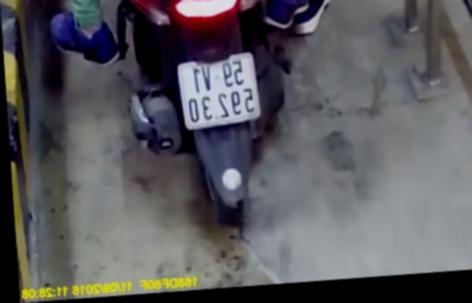License_Plate: (170, 47, 263, 135)
